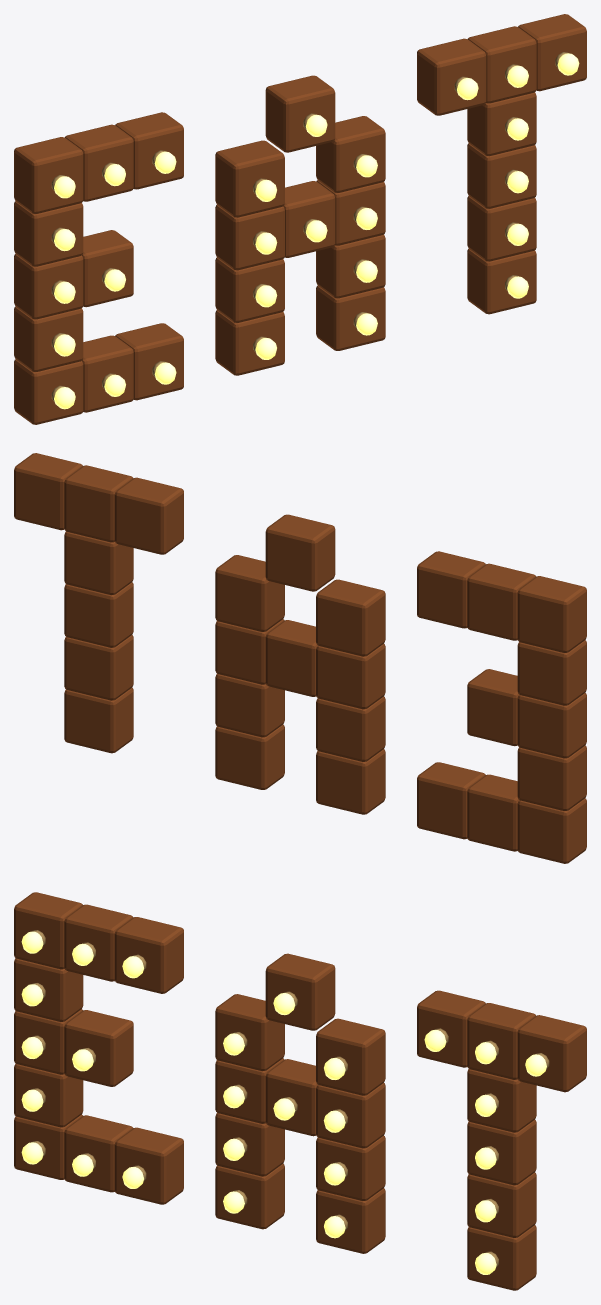
The model's file is eat.glb.
3 renders of one model, top to bottom at view 1: azimuth 30°, elevation 25°; view 2: azimuth 150°, elevation 25°; view 3: azimuth 330°, elevation 25°, orthographic.
Parts seen in each view (by area): view 1: letter.010, letter.020, letter, letter.011, letter.012, letter.004, letter.025, letter.007, letter.013, letter.026, letter.016, letter.003 (+15 smaller); view 2: letter.010, letter, letter.011, letter.020, letter.012, letter.025, letter.004, letter.007, letter.013, letter.024, letter.016, letter.019 (+15 smaller); view 3: letter.010, letter.009, letter.022, letter.005, letter.012, letter.002, letter.011, letter.015, letter.018, letter.024, letter.017, letter.026 (+15 smaller).
Boxes of the visible parts, x1,y1,x2,y2 form: letter.010: [265, 75, 335, 152]; letter.020: [417, 38, 486, 115]; letter: [14, 137, 83, 213]; letter.011: [215, 140, 284, 217]; letter.012: [316, 116, 385, 192]; letter.004: [14, 254, 83, 319]; letter.025: [467, 196, 536, 261]; letter.007: [14, 359, 83, 424]; letter.013: [215, 205, 284, 270]; letter.026: [467, 248, 536, 314]; letter.016: [215, 257, 284, 322]; letter.003: [14, 201, 83, 266]; letter.010: [265, 514, 335, 591]; letter: [517, 576, 586, 652]; letter.011: [316, 579, 385, 656]; letter.020: [114, 477, 183, 554]; letter.012: [215, 555, 284, 631]; letter.025: [64, 635, 133, 700]; letter.004: [517, 693, 586, 758]; letter.007: [517, 798, 586, 863]; letter.013: [316, 644, 385, 709]; letter.024: [64, 582, 133, 647]; letter.016: [316, 696, 385, 761]; letter.019: [215, 724, 284, 789]; letter.010: [265, 953, 335, 1030]; letter.009: [114, 1127, 183, 1204]; letter.022: [517, 1015, 586, 1092]; letter.005: [64, 1010, 133, 1086]; letter.012: [316, 1018, 385, 1095]; letter.002: [114, 917, 183, 993]; letter.011: [215, 994, 284, 1071]; letter.015: [316, 1083, 385, 1148]; letter.018: [215, 1163, 284, 1229]; letter.024: [467, 1120, 536, 1185]; letter.017: [316, 1135, 385, 1200]; letter.026: [467, 1225, 536, 1290].
Size of the model in its own units: 1.49 by 0.6777 by 0.151.
